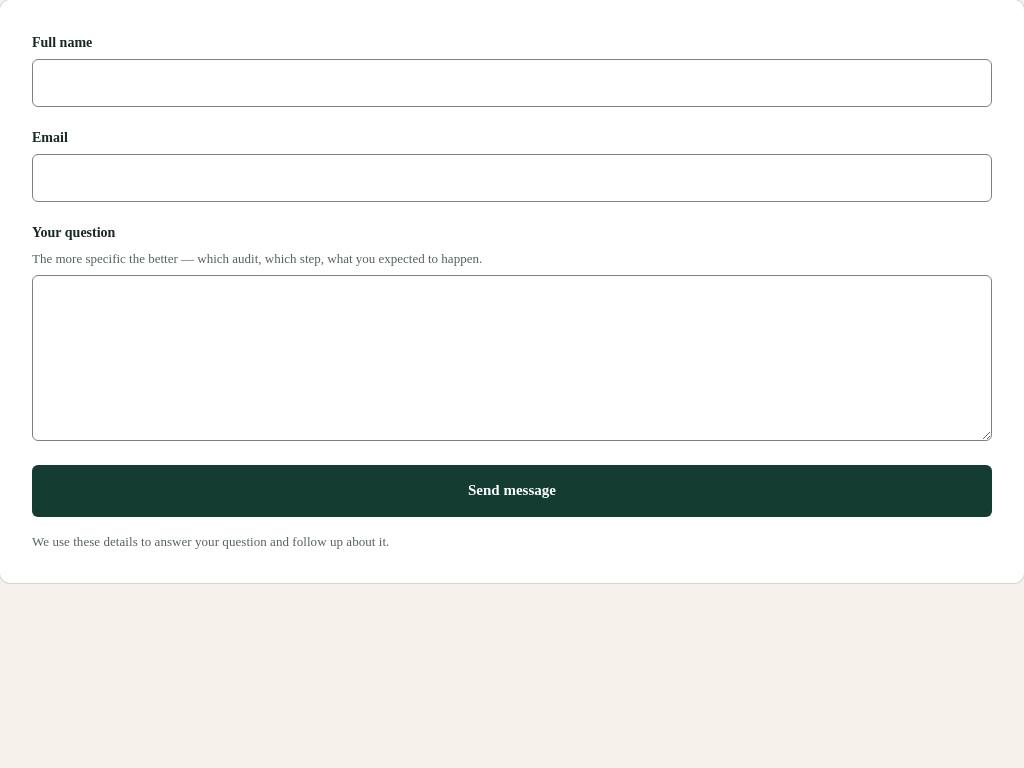
Scenario: support form › maps server field errors, focuses the field and retains the draft
Type "Asha Rao" into the field labelled "Full name" at (512, 83), box [32,59,992,107]
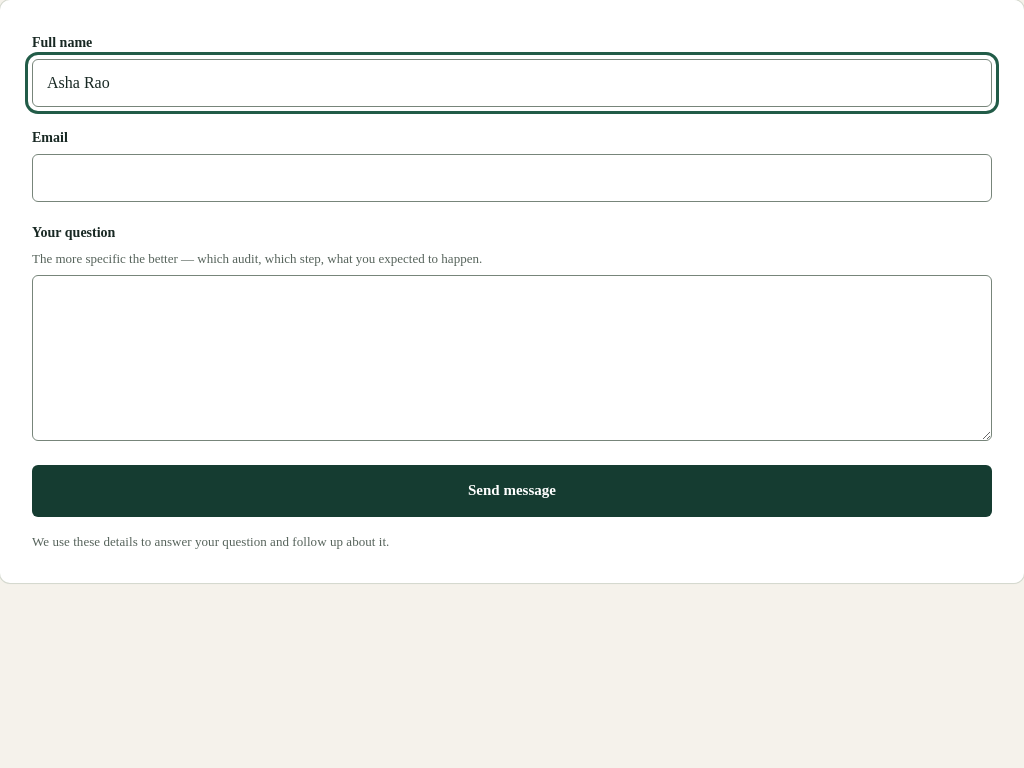
Type "asha@example.com" into the field labelled "Email" at (512, 178), box [32,154,992,202]
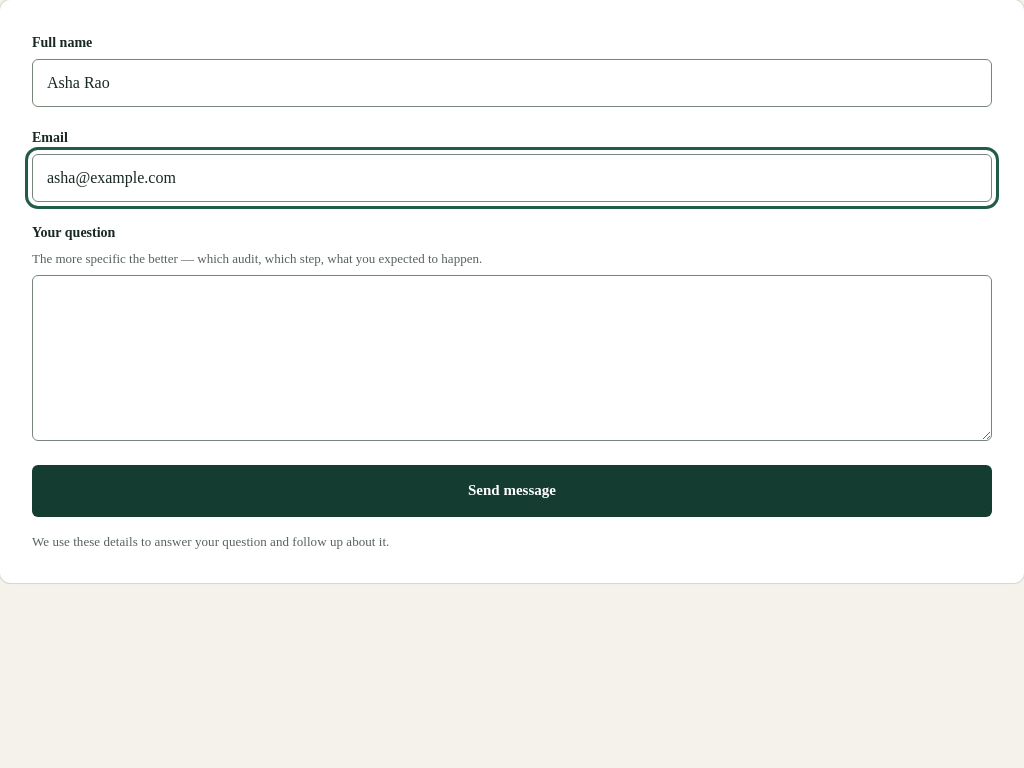
Type "Synthetic support question" into the text box labelled "Your question" at (512, 358), box [32,274,992,440]
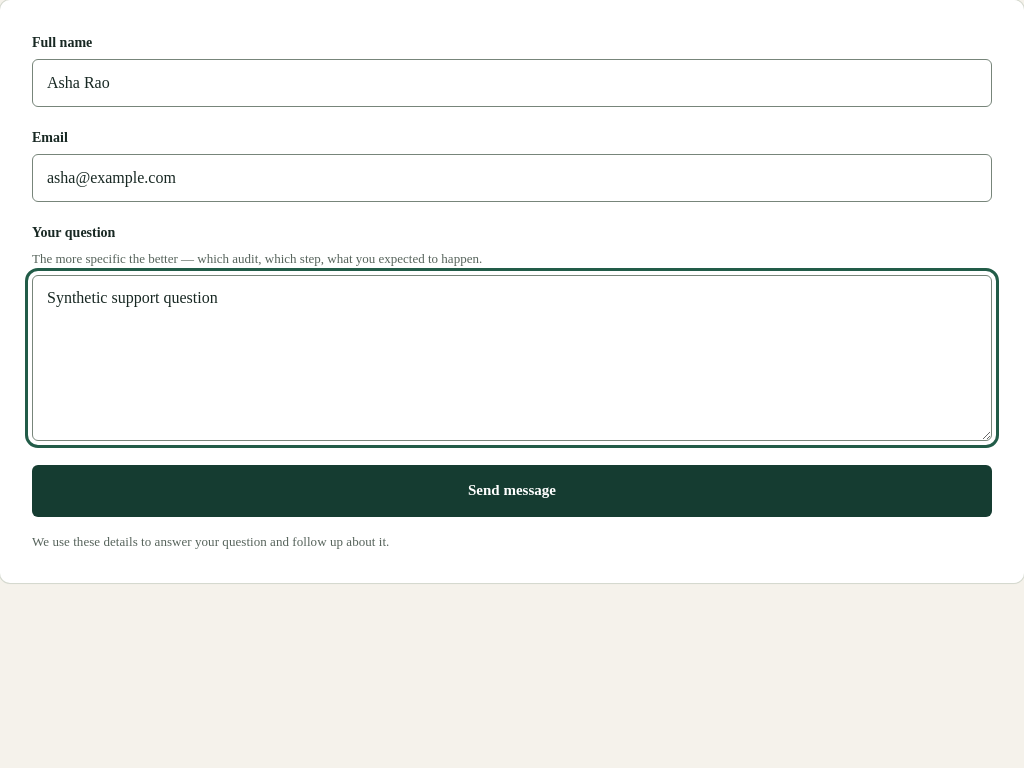
Click the button "Send message" at (512, 490), box [32,464,992,516]
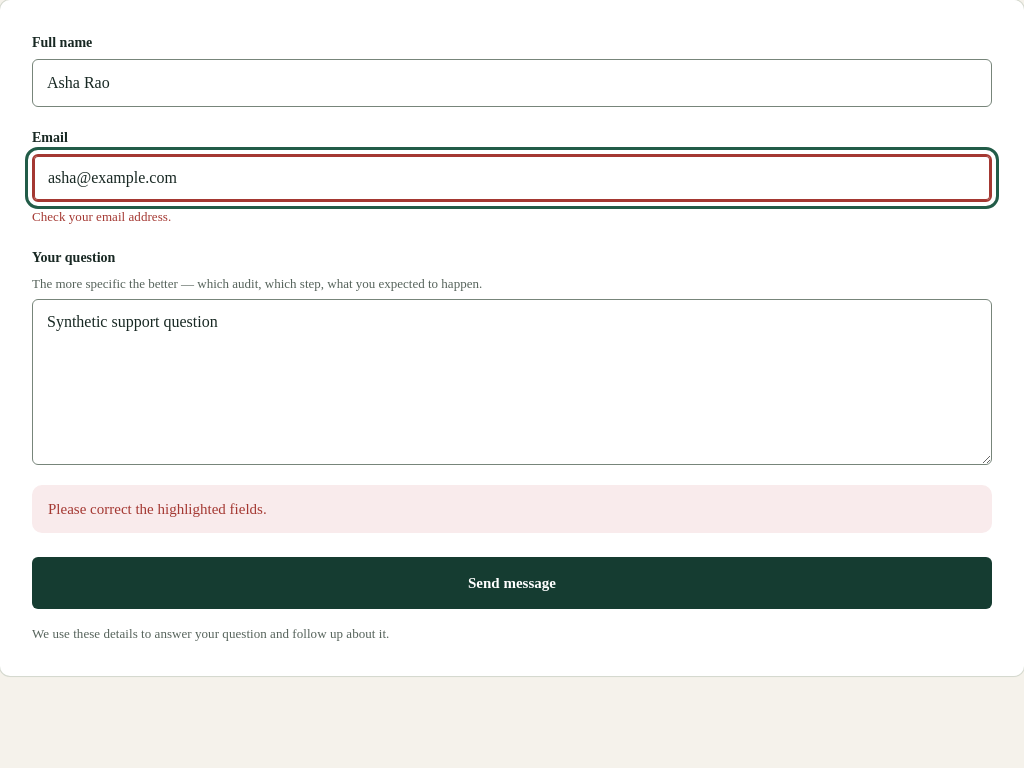
Check: the text "Check your email address." is shown, box [32,209,171,224]
